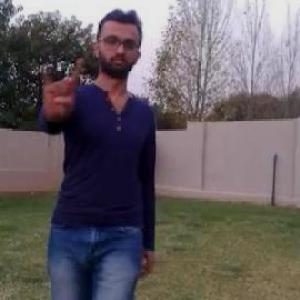takeoff-hand: (34, 50, 82, 126)
